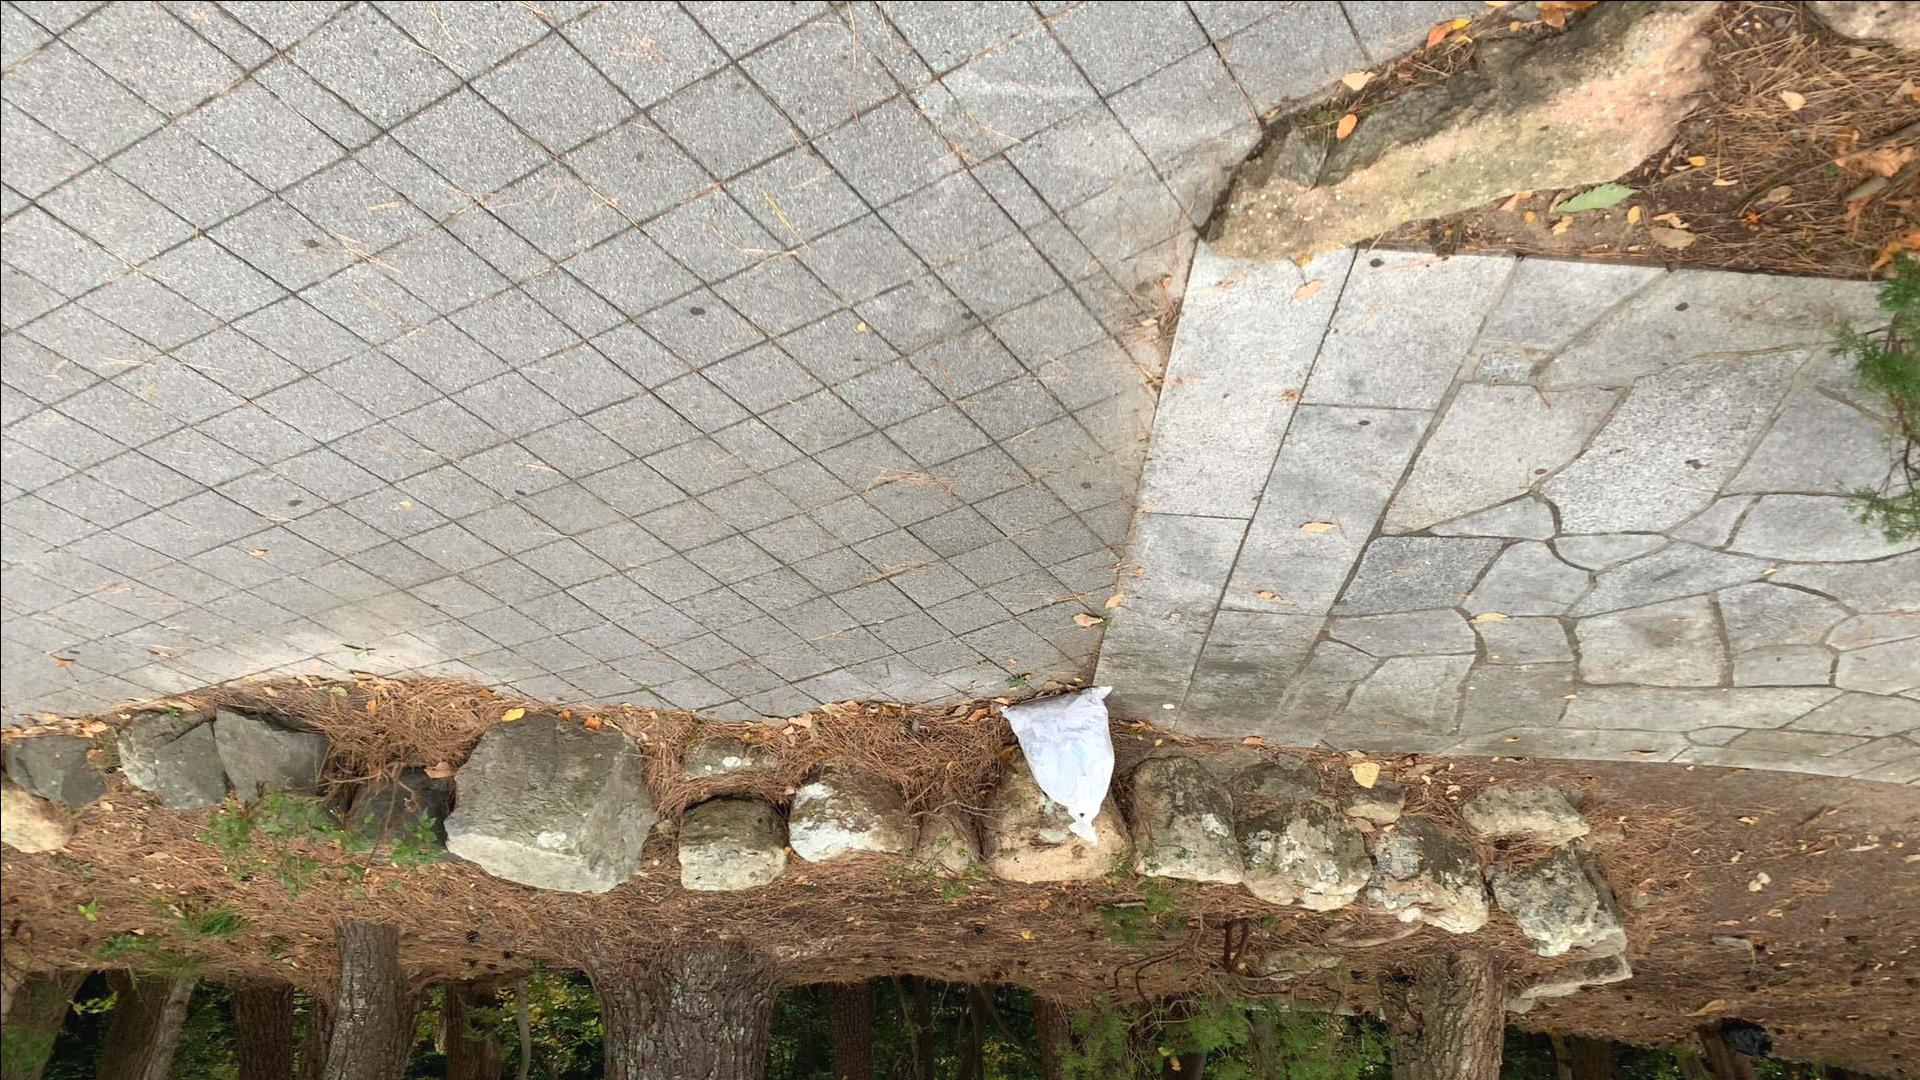white_bag: (984, 669, 1137, 855)
